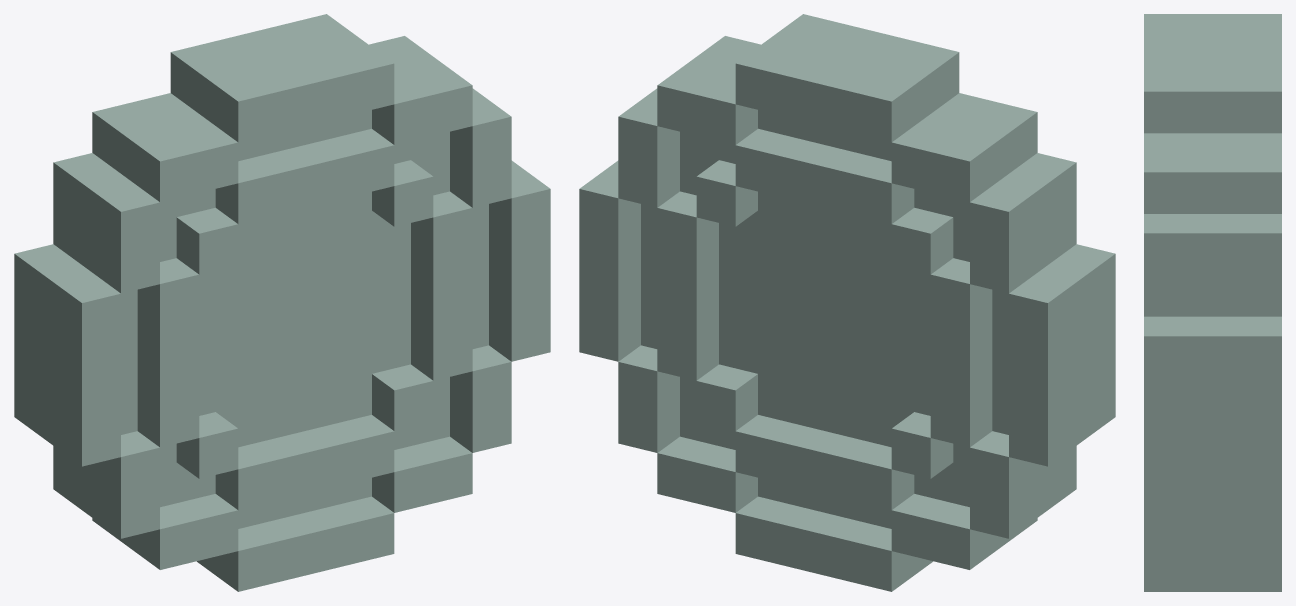
File: Coin_Big_2.dae
3 renders of one model, left to right at view 1: azimuth 30°, elevation 25°; view 2: azimuth 150°, elevation 25°; view 3: azimuth 270°, elevation 25°, orthographic. The views are drawn at different scales.
Parts seen in each view (by area): view 1: Coin_Big_2; view 2: Coin_Big_2; view 3: Coin_Big_2.
Boxes of the visible parts, box(x1,y1,x2,y2) form: Coin_Big_2: box(14, 14, 550, 591); Coin_Big_2: box(579, 14, 1115, 591); Coin_Big_2: box(1144, 14, 1281, 591).
Size of the model in its own units: 0.3 by 0.075 by 0.3.
